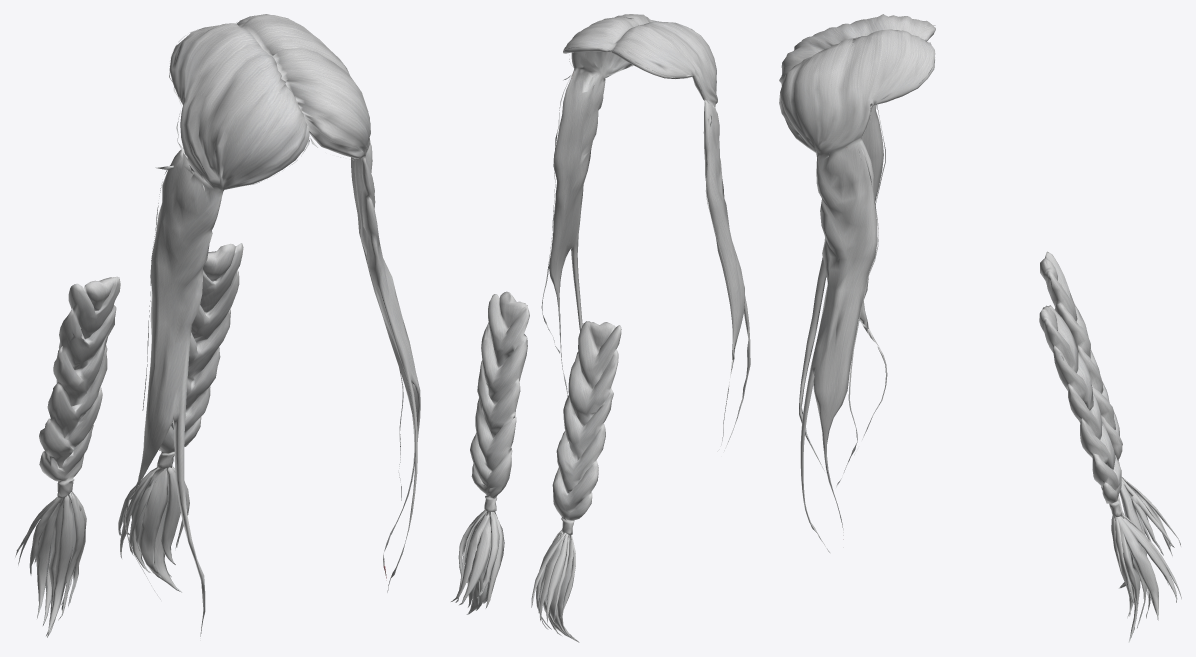
File: hair-5.glb
The picture shows the model from 3 angles, left to right: view 1: azimuth 30°, elevation 25°; view 2: azimuth 150°, elevation 25°; view 3: azimuth 270°, elevation 25°; orthographic projection. The views are drawn at different scales.
Size of the model in its own units: 0.3721 by 0.9517 by 0.585.
Materials: 1 (1 with a texture image).
